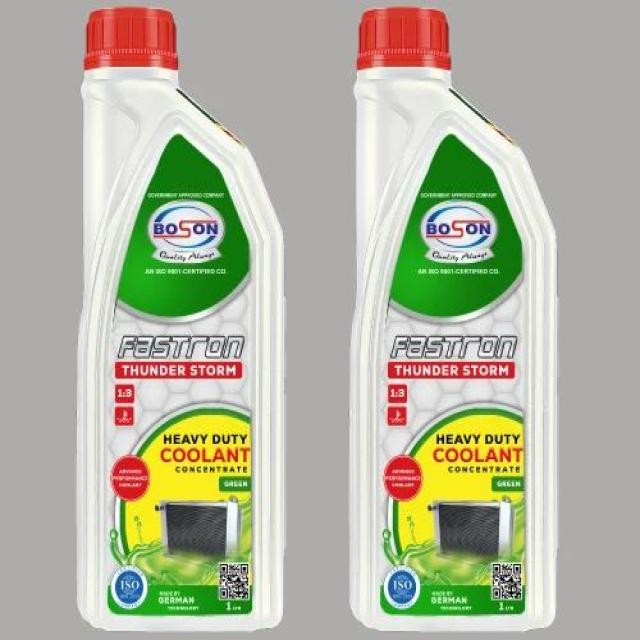coolant: (344, 0, 566, 640), (76, 1, 290, 634)
